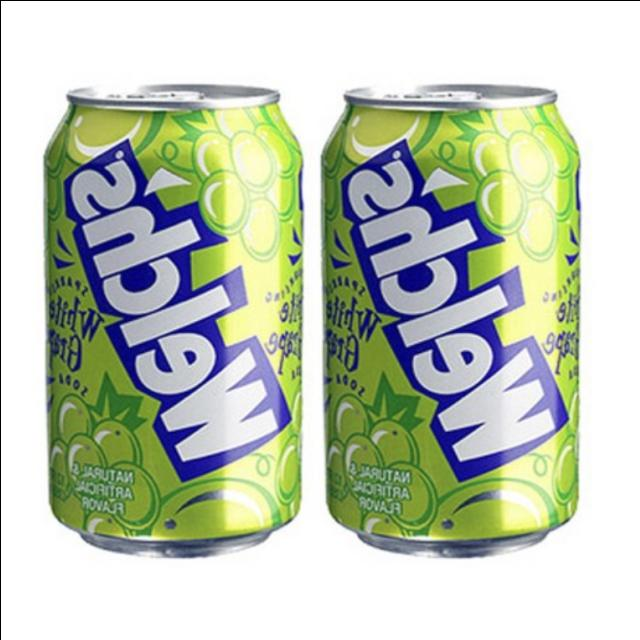can: (22, 55, 323, 577), (304, 77, 594, 564)
